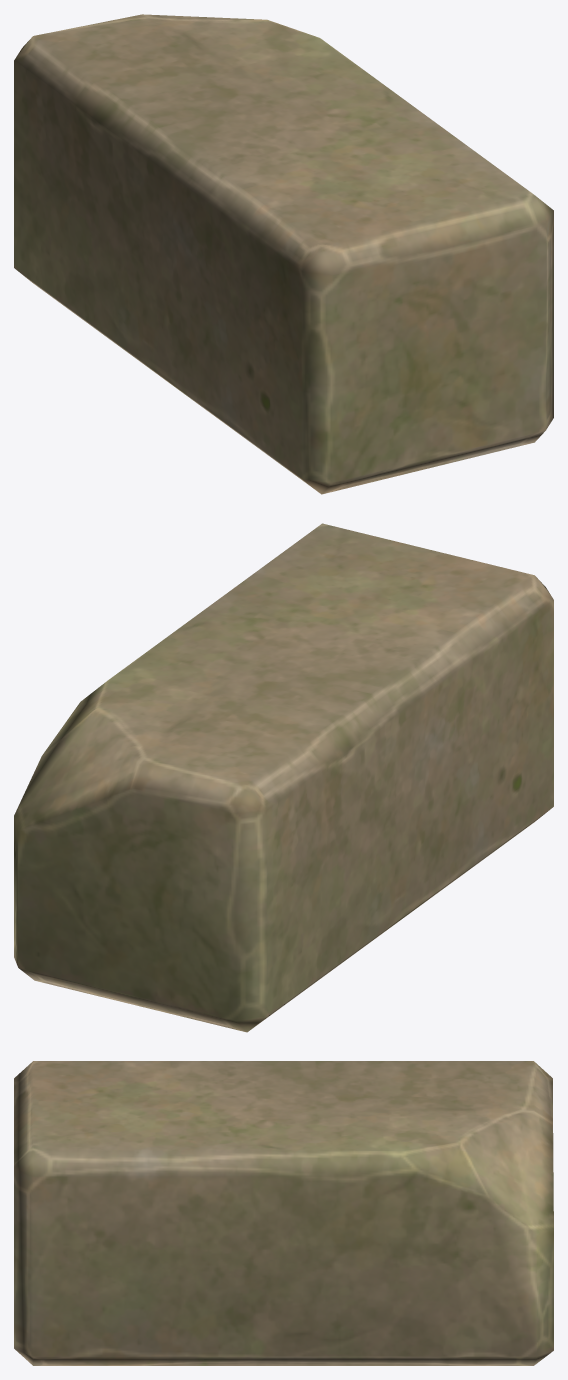
File: SM_Brick_Kit_2.fbx
3 renders of one model, top to bottom at view 1: azimuth 30°, elevation 25°; view 2: azimuth 150°, elevation 25°; view 3: azimuth 270°, elevation 25°, orthographic. The views are drawn at different scales.
Parts seen in each view (by area): view 1: SM_Brick_Kit_2_LOD0; view 2: SM_Brick_Kit_2_LOD0; view 3: SM_Brick_Kit_2_LOD0.
Part boxes in pixels (box(x1,y1,x2,y2)): SM_Brick_Kit_2_LOD0: box(14, 14, 553, 494); SM_Brick_Kit_2_LOD0: box(14, 523, 553, 1032); SM_Brick_Kit_2_LOD0: box(14, 1061, 553, 1365).
Bounding box in the file's own units: 20.27 × 43.44 × 19.05.
Materials: 1 (1 with a texture image).
